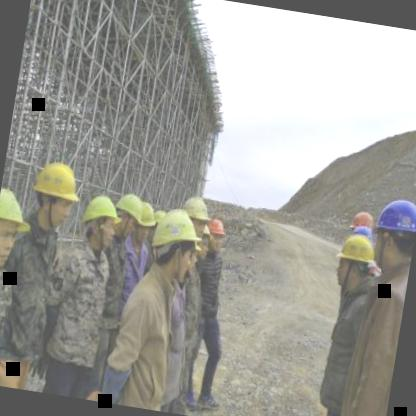helmet: (23, 152, 89, 236), (147, 202, 205, 286), (365, 189, 416, 275), (327, 226, 382, 296), (0, 180, 30, 271), (79, 190, 120, 247), (114, 190, 147, 244), (181, 192, 209, 238), (132, 200, 157, 248), (204, 219, 228, 256)
